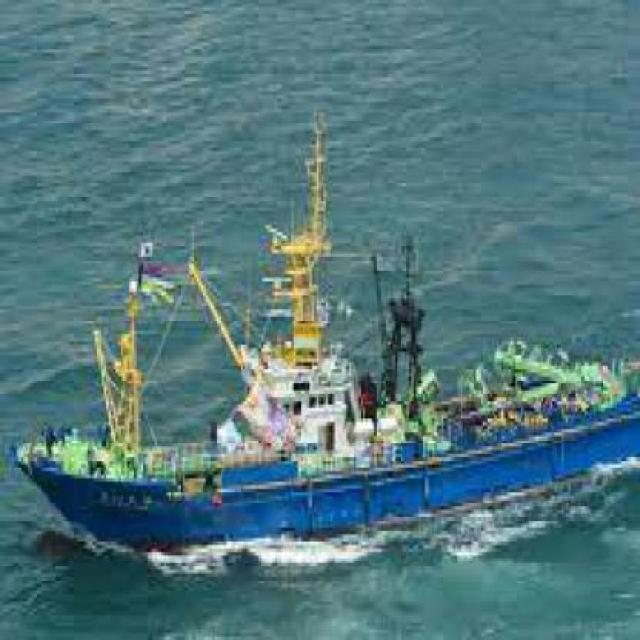fish-b: (8, 100, 639, 567)
